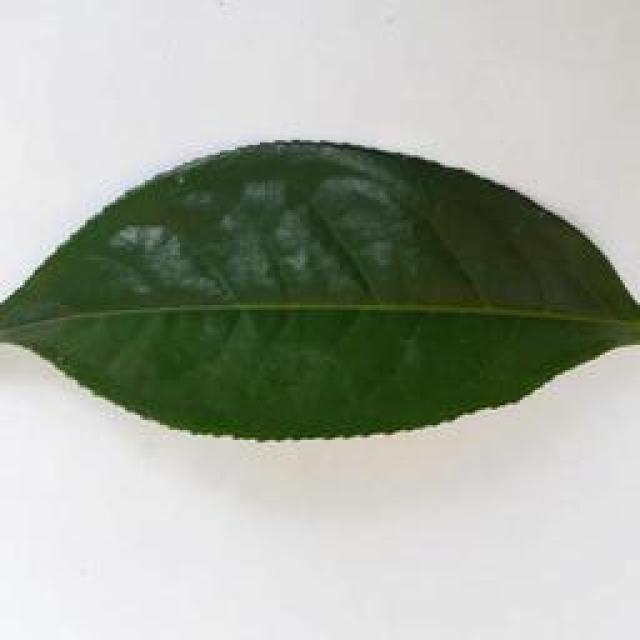Healthy: (0, 131, 640, 455)
